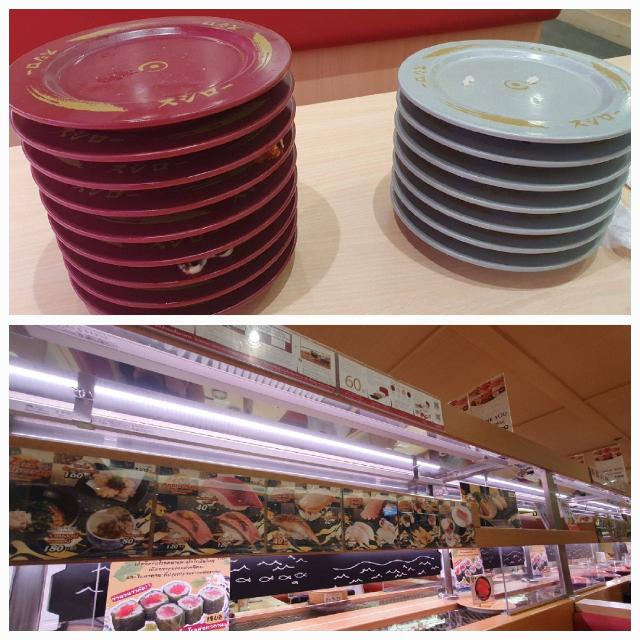janred: (13, 54, 279, 114), (25, 160, 296, 191), (39, 183, 261, 218), (13, 131, 294, 158), (57, 244, 277, 271), (68, 286, 284, 308), (66, 269, 273, 291), (50, 224, 283, 241), (63, 305, 250, 324)
janwhite: (407, 37, 637, 140), (427, 120, 616, 170), (449, 186, 607, 218), (409, 176, 603, 193), (449, 217, 599, 236), (462, 235, 577, 257), (454, 260, 588, 276)
